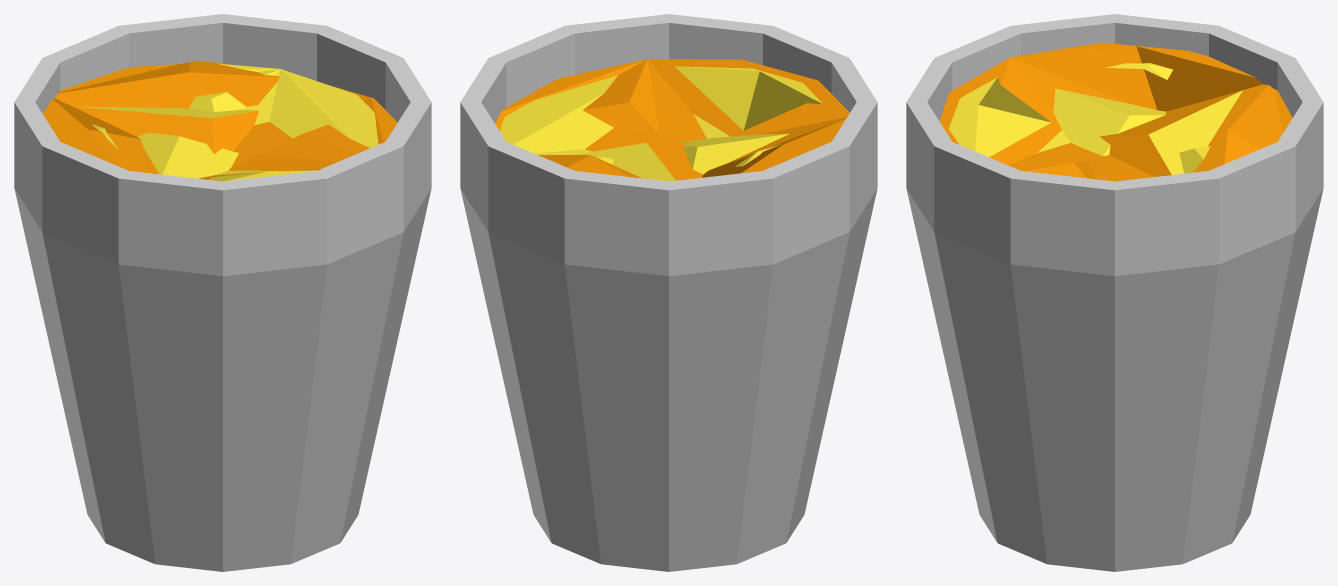
Rendered from cup-of-juice-by-jarlan-perez-1dtgLpiHRXG.glb.
The picture shows the model from 3 angles, left to right: view 1: azimuth 30°, elevation 25°; view 2: azimuth 150°, elevation 25°; view 3: azimuth 270°, elevation 25°; orthographic projection.
Parts seen in each view (by area): view 1: Node; view 2: Node; view 3: Node.
Part boxes in pixels (left/top/right/bottom): Node: left=14, top=14, right=431, bottom=571; Node: left=460, top=14, right=877, bottom=571; Node: left=906, top=14, right=1323, bottom=571.
Size of the model in its own units: 0.1375 by 0.15 by 0.1375.
